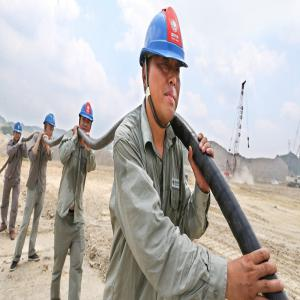blue: (142, 10, 186, 127), (80, 104, 94, 136), (45, 114, 56, 140), (14, 123, 23, 144)
